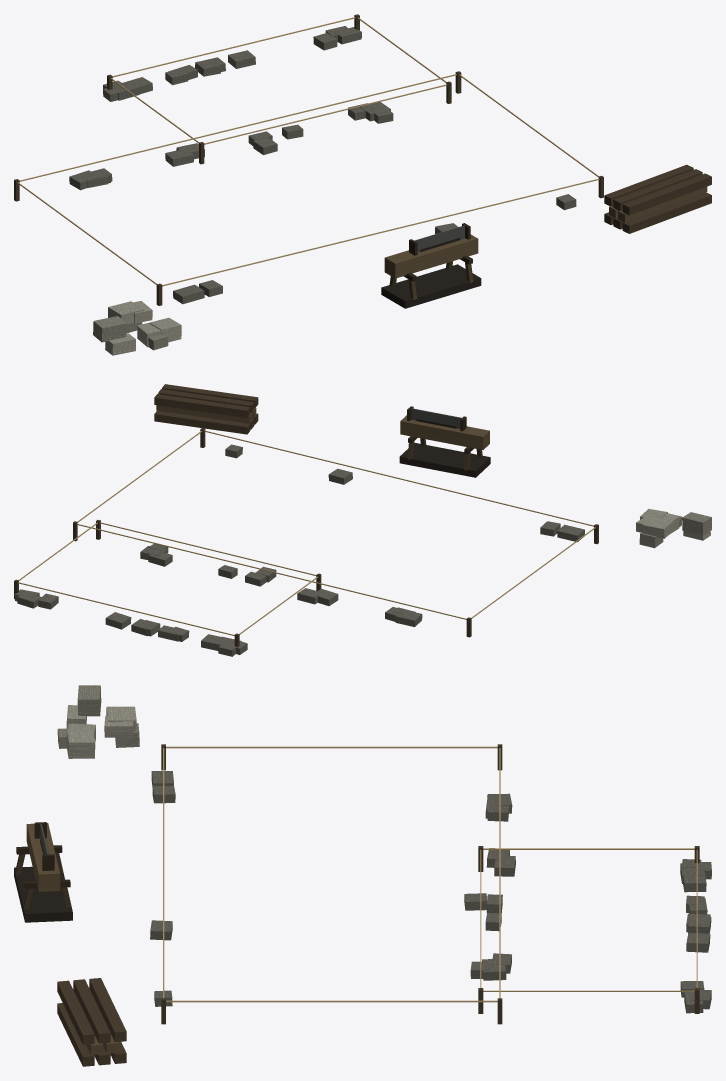
The model's file is rat-3-site.glb.
3 views of the same model, one above another, from view 1: azimuth 30°, elevation 25°; view 2: azimuth 150°, elevation 25°; view 3: azimuth 270°, elevation 25° (orthographic). The views are drawn at different scales.
Bounding box in the file's own units: 34.62 × 2.95 × 29.04.
Materials: 10 (7 with a texture image).
